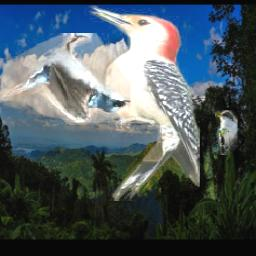Cuckoo: (216, 111, 239, 156)
Swallow: (0, 33, 131, 125)
Woodpecker: (85, 6, 201, 202)
